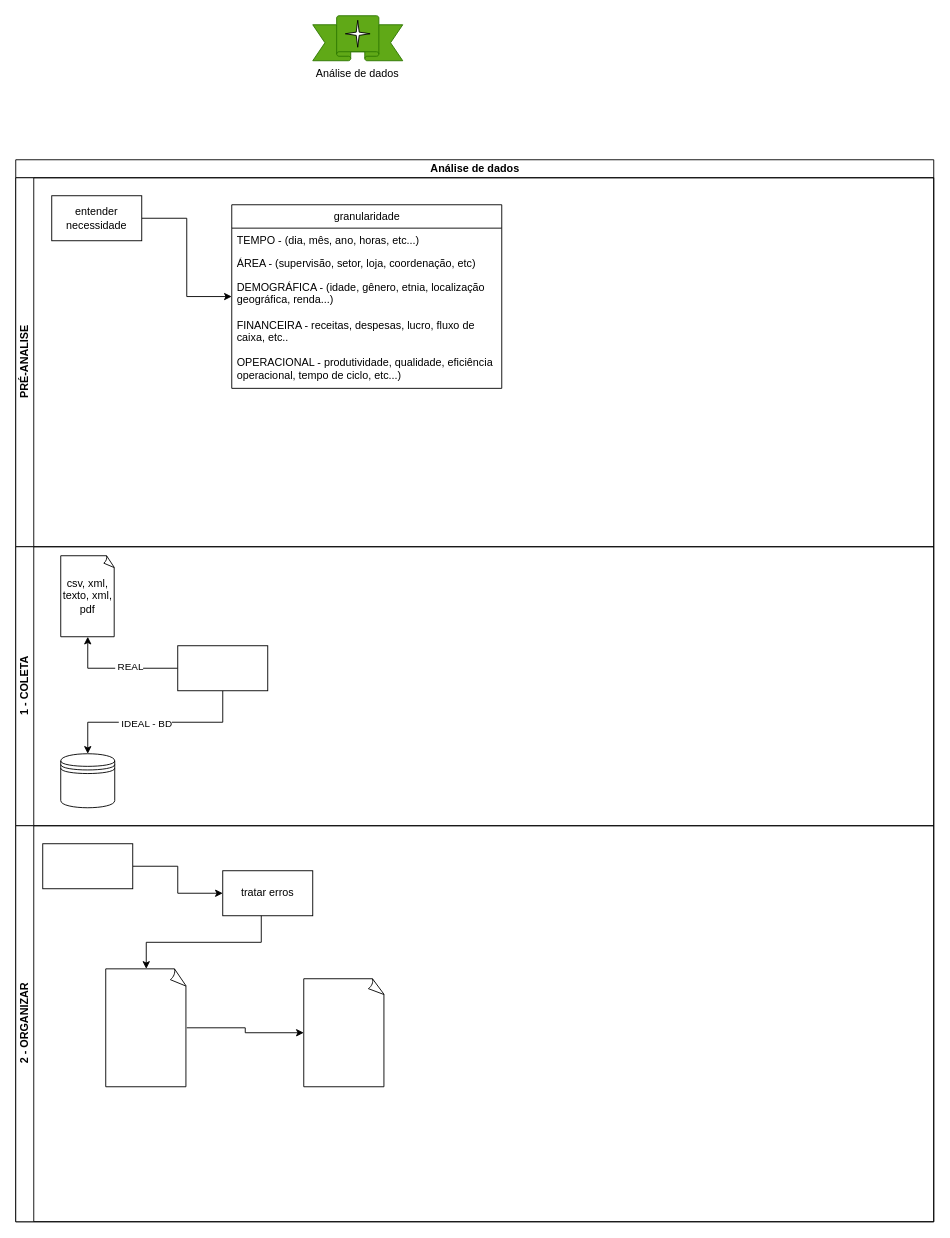
Some shapes in this 950 by 1238 pixel diagram are drawn without their labels. The shapes that lost their labels are listed below. From the top down, each one's centre as x and y in pixels, then its label:
At (222,668): "diferentes fontes".
At (87,866): "definir formato".
At (146,1027): "espaços em branco, colunas desnecessárias, palavras erradas, etc..".
At (344,1032): "NORMALIZAR (formato necessário)".
